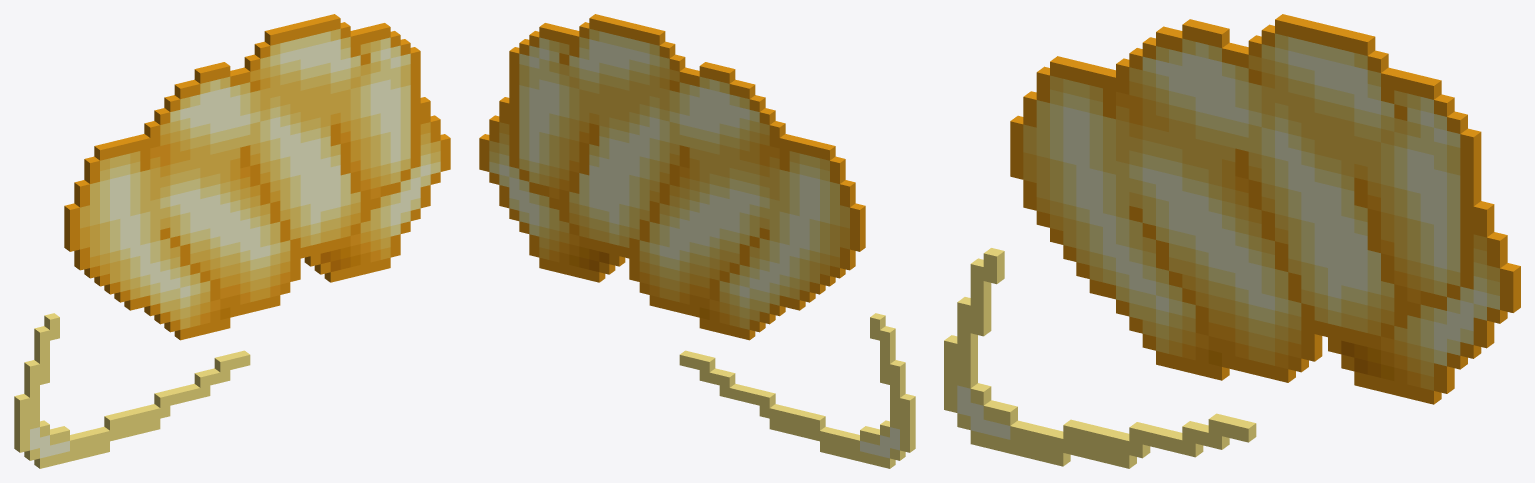
File: Fight_726_2_06_fx.obj
The picture shows the model from 3 angles, left to right: view 1: azimuth 30°, elevation 25°; view 2: azimuth 150°, elevation 25°; view 3: azimuth 330°, elevation 25°; orthographic projection. The views are drawn at different scales.
Size of the model in its own units: 4.3 by 3.6 by 0.1.
1 material, 1 textured.
